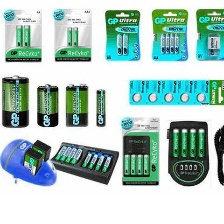battery: (1, 74, 30, 129), (64, 81, 89, 129), (37, 81, 58, 128), (22, 146, 42, 177), (94, 84, 107, 131), (32, 137, 52, 166), (205, 32, 222, 58), (195, 126, 206, 159), (178, 126, 189, 158), (170, 126, 180, 158), (68, 148, 83, 166), (188, 126, 196, 158), (91, 154, 105, 172), (121, 32, 131, 57), (86, 153, 99, 170), (81, 151, 94, 168), (63, 147, 76, 164), (54, 144, 67, 161), (58, 146, 72, 161), (100, 156, 112, 173), (14, 24, 22, 49), (115, 32, 123, 56), (142, 152, 150, 176), (65, 26, 74, 47), (159, 32, 167, 55), (71, 26, 79, 49), (135, 153, 143, 176), (146, 91, 159, 105), (129, 153, 137, 175), (122, 153, 130, 175), (161, 91, 174, 104), (131, 90, 143, 104), (22, 24, 29, 48), (164, 32, 171, 55), (194, 91, 207, 103), (173, 32, 180, 53), (179, 92, 191, 102)
